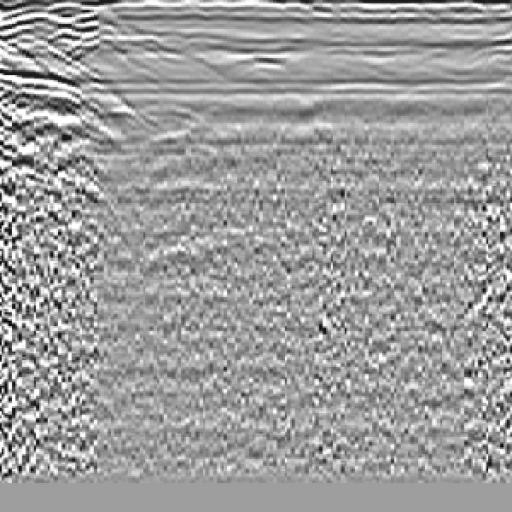non-metallic: (1, 59, 95, 117)
